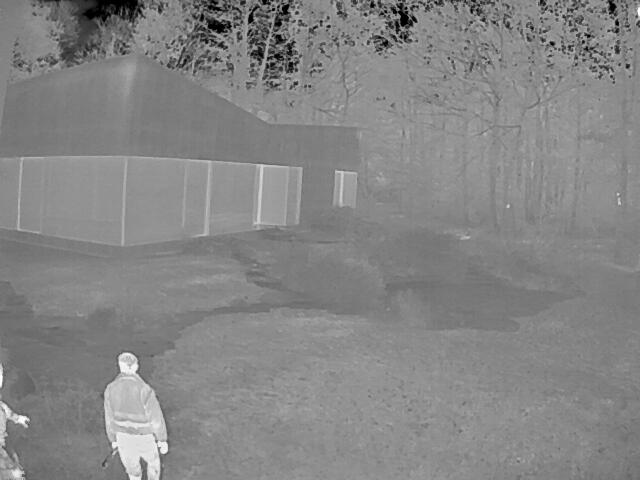person: (105, 351, 168, 479)
